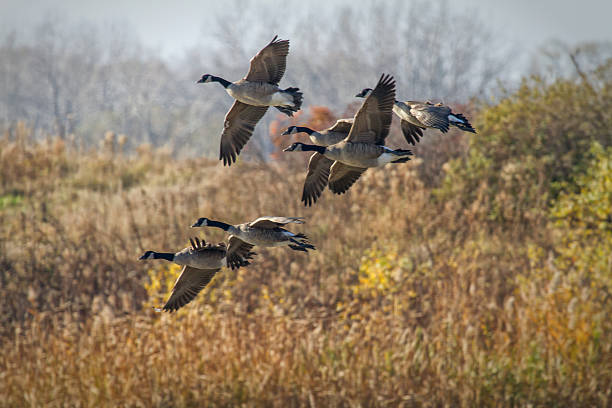goose: (283, 75, 414, 195), (194, 37, 303, 163), (191, 213, 318, 272), (354, 84, 479, 142), (137, 242, 226, 315), (280, 118, 359, 144)
